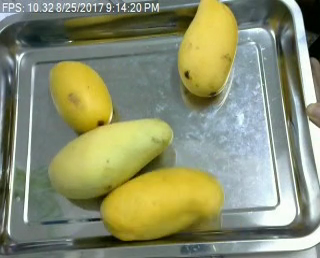Mango: (44, 114, 173, 202), (100, 167, 225, 246), (174, 0, 241, 101), (49, 56, 113, 134)
